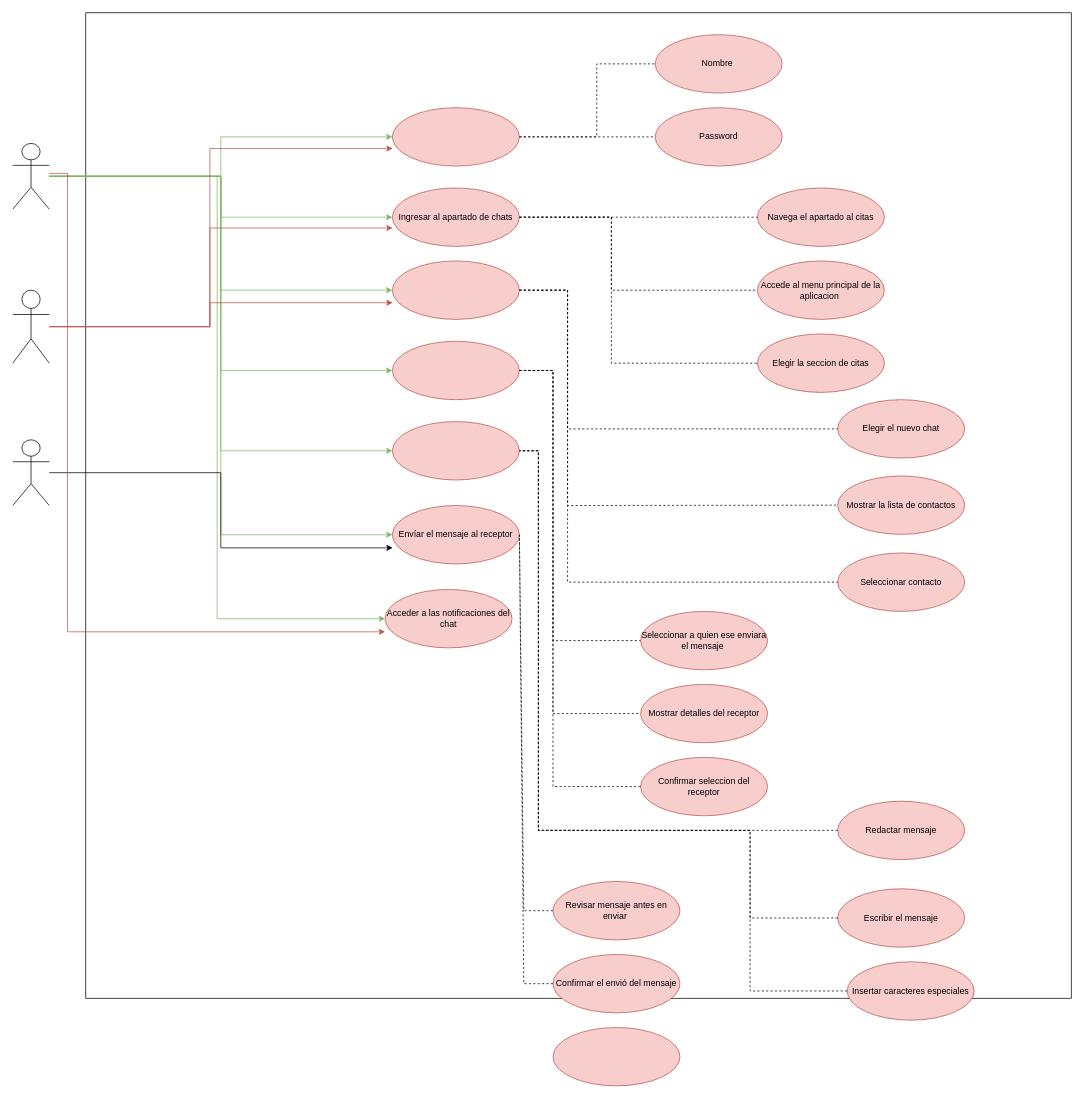
Some shapes in this 1084 by 1099 pixel diagram are drawn without their labels. Here are the shapes that lost their labels. From the top down, the centre of each, then its label:
At (455,136): "iniciar sesion en abilitytalk".
At (30,176): "Tutor".
At (455,289): "Seleccionar la opción para iniciar un nuevo chat".
At (30,326): "Paciente".
At (455,370): "Seleccionar al receptor del mensaje".
At (455,450): "Escribir el mensaje con emoticonos, caracteres,etc".
At (30,472): "Sistema".
At (616,1056): "Enviar el mensaje".
